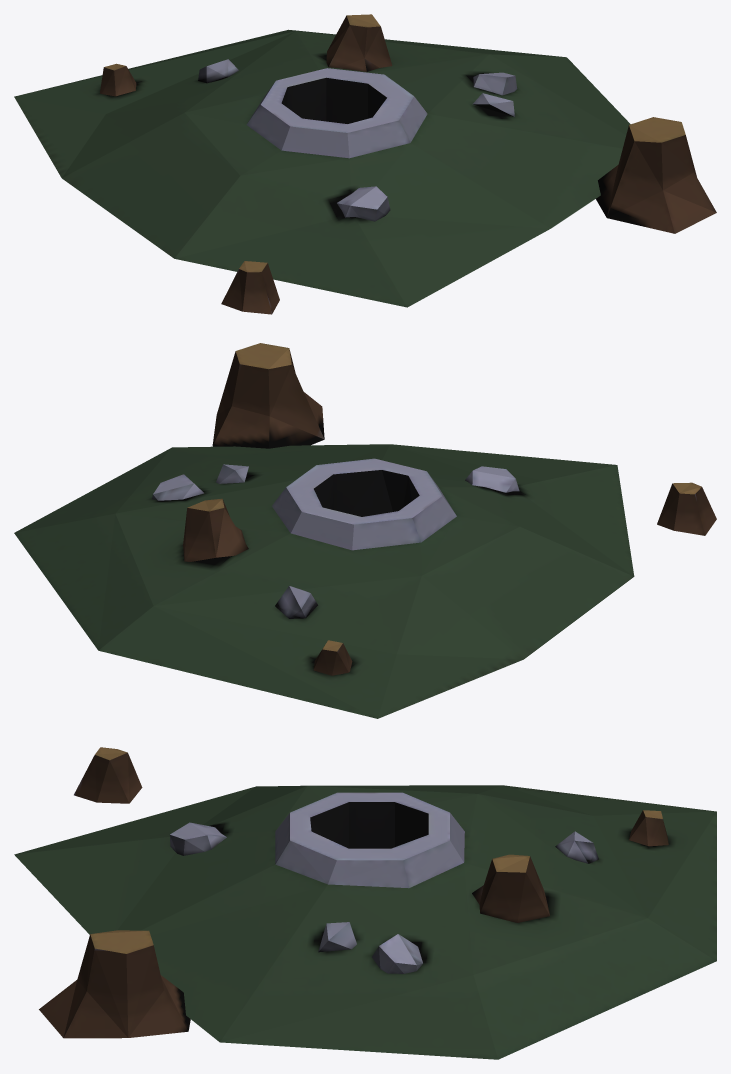
The model's file is waste_3_ruin_lod1.fbx.
3 renders of one model, top to bottom at view 1: azimuth 30°, elevation 25°; view 2: azimuth 150°, elevation 25°; view 3: azimuth 270°, elevation 25°, orthographic. The views are drawn at different scales.
Parts seen in each view (by area): view 1: waste_3_ruin_LOD1; view 2: waste_3_ruin_LOD1; view 3: waste_3_ruin_LOD1.
Part boxes in pixels (box(x1,y1,x2,y2)): waste_3_ruin_LOD1: box(14, 14, 716, 314); waste_3_ruin_LOD1: box(14, 343, 716, 718); waste_3_ruin_LOD1: box(14, 747, 716, 1059).
Bounding box in the file's own units: 0.0306 × 0.00481 × 0.0325.
